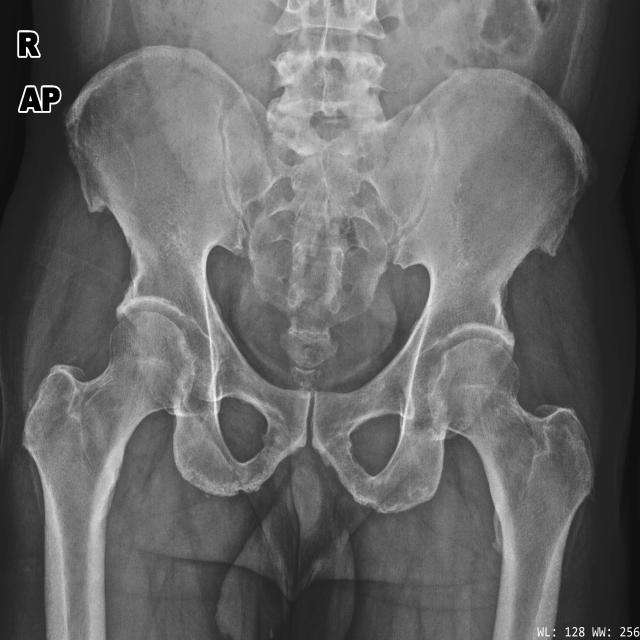normal-left: (428, 338, 593, 640)
normal-right: (23, 310, 195, 640)
